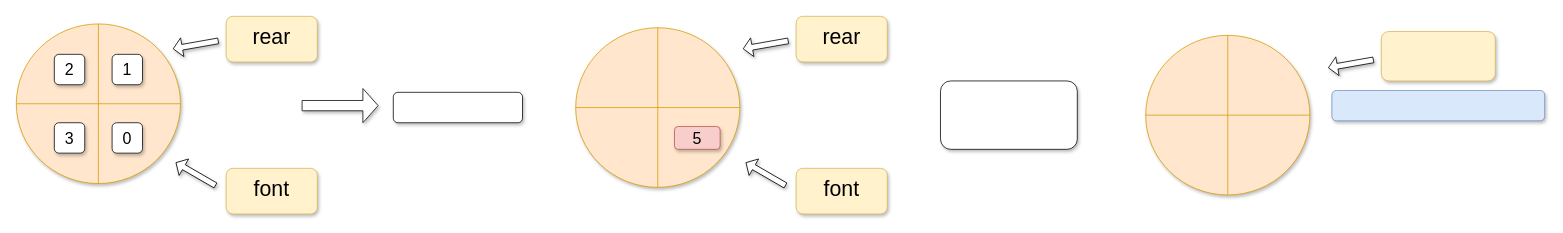
The diagram is 1563 pixels wide and 233 high, and some of its shapes have lost their labels. The shapes that lost their labels are listed below. From the top down, each one's centre as x and y in pixels, then its label:
At point (1439, 57): "rear、font".
At point (458, 108): "存入一个数时".
At point (1009, 116): "当取出一个数时 此时当数组为空".
At point (1438, 106): "也就是两者相等时数组为空".
